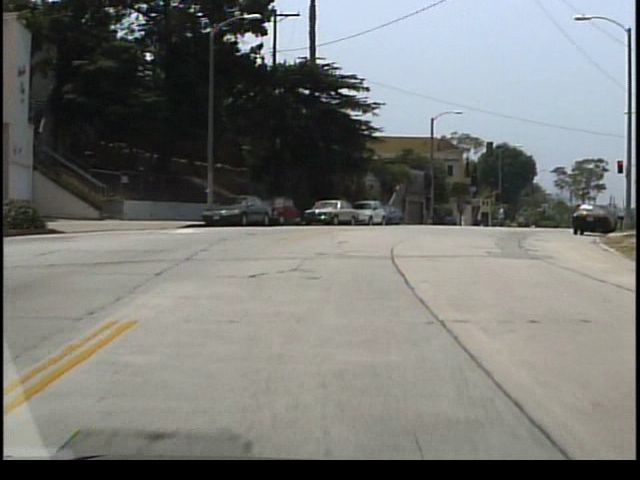person: (501, 205, 508, 227)
